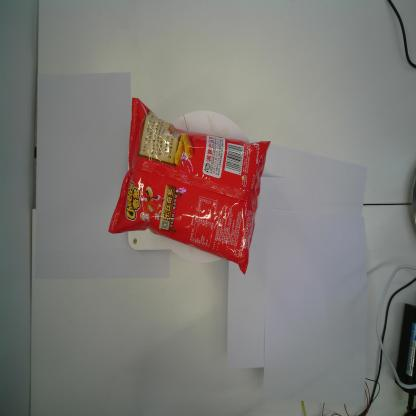Puffed Food: (107, 95, 271, 276)
